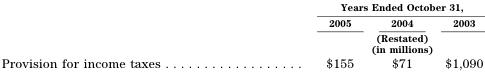table: (0, 0, 482, 70)
table column: (0, 0, 242, 70), (242, 0, 371, 70), (371, 0, 428, 70), (428, 0, 482, 70)
table column header: (0, 0, 482, 54)
table row: (0, 30, 482, 54), (0, 14, 482, 30), (0, 54, 482, 70), (0, 0, 482, 14)
table spanning cell: (242, 30, 482, 54), (242, 0, 482, 14)
